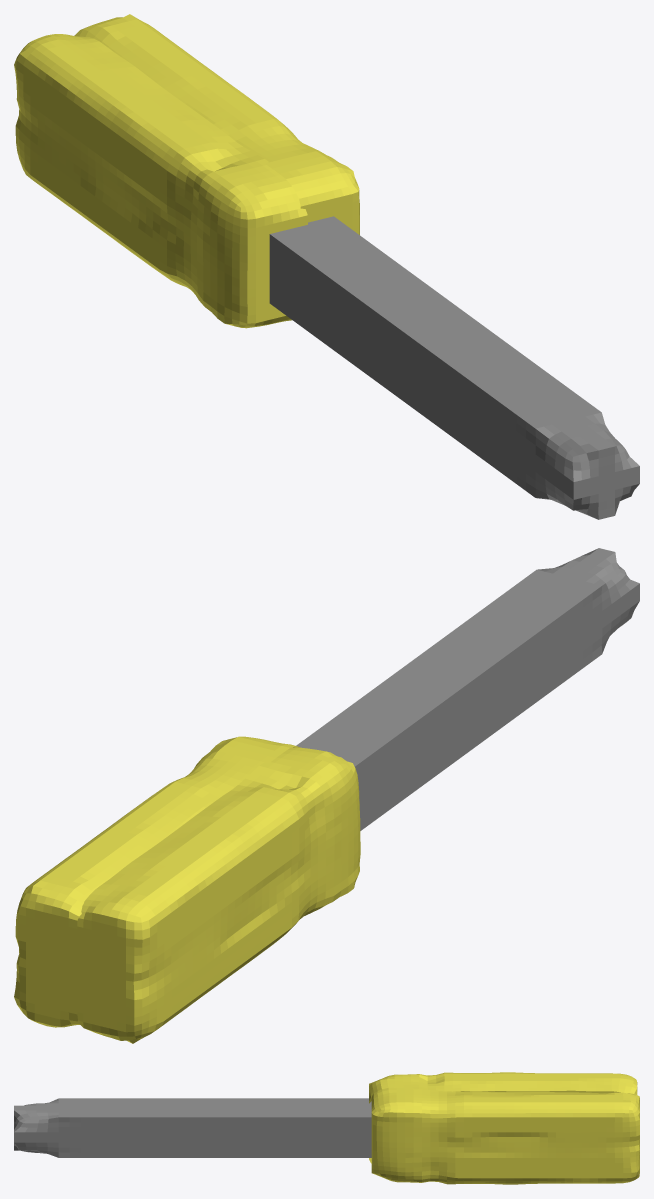
File: joinedscrewdriver.fbx
3 renders of one model, top to bottom at view 1: azimuth 30°, elevation 25°; view 2: azimuth 150°, elevation 25°; view 3: azimuth 270°, elevation 25°, orthographic. The views are drawn at different scales.
Parts seen in each view (by area): view 1: Cube.001; view 2: Cube.001; view 3: Cube.001.
Part boxes in pixels (x1,y1,x2,y2): Cube.001: (14,14,639,519); Cube.001: (14,548,639,1043); Cube.001: (14,1072,639,1184).
Bounding box in the file's own units: 201 × 202 × 1399.
